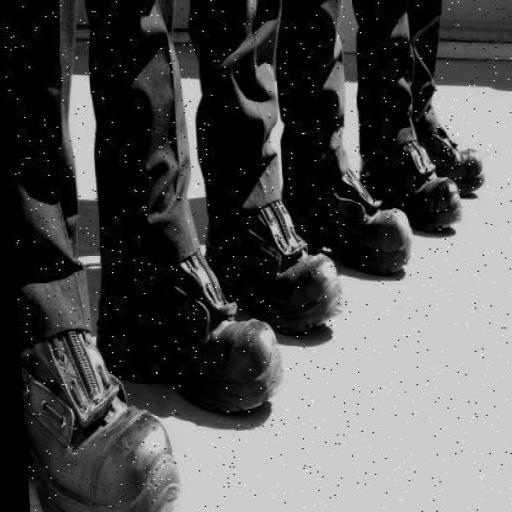safety_boots: (10, 352, 178, 512), (132, 249, 282, 428), (325, 166, 419, 302), (246, 217, 345, 333), (398, 133, 459, 243), (438, 114, 494, 220)
